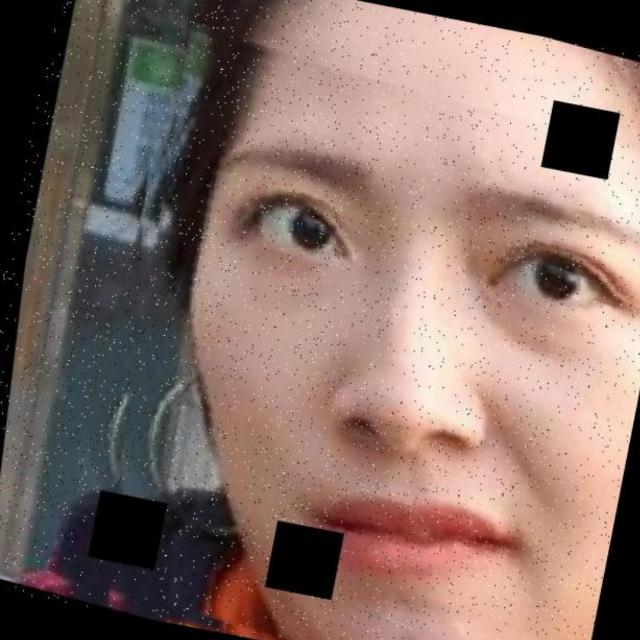Natural: (154, 66, 640, 637)
